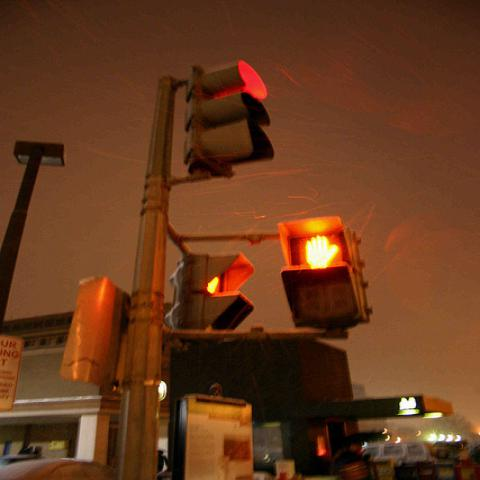car: (1, 454, 119, 480), (357, 442, 433, 468)
